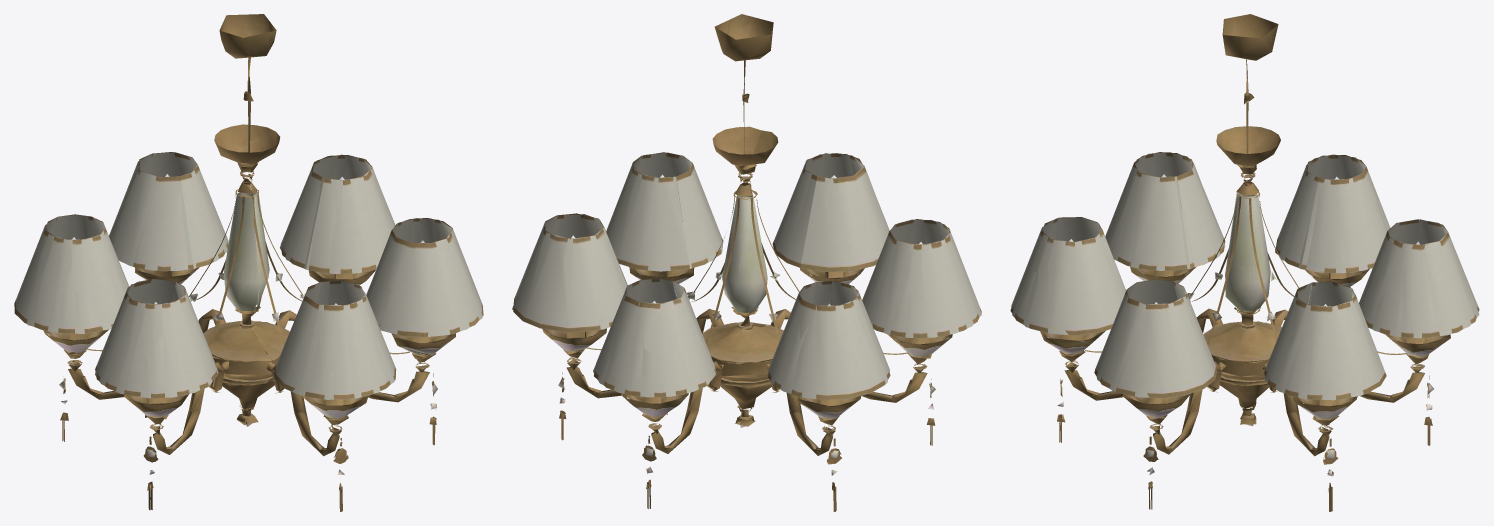
The model's file is ph_Chandelier_01.glb.
3 views of the same model, side by side, from view 1: azimuth 30°, elevation 25°; view 2: azimuth 150°, elevation 25°; view 3: azimuth 270°, elevation 25° (orthographic).
Parts seen in each view (by area): view 1: Chandelier_01; view 2: Chandelier_01; view 3: Chandelier_01.
Boxes of the visible parts, x1,y1,x2,y2 form: Chandelier_01: [14, 14, 483, 511]; Chandelier_01: [512, 14, 981, 511]; Chandelier_01: [1010, 14, 1479, 511].
Bounding box in the file's own units: 0.7464 × 0.7983 × 0.8165.
Materials: 2 (1 with a texture image).
